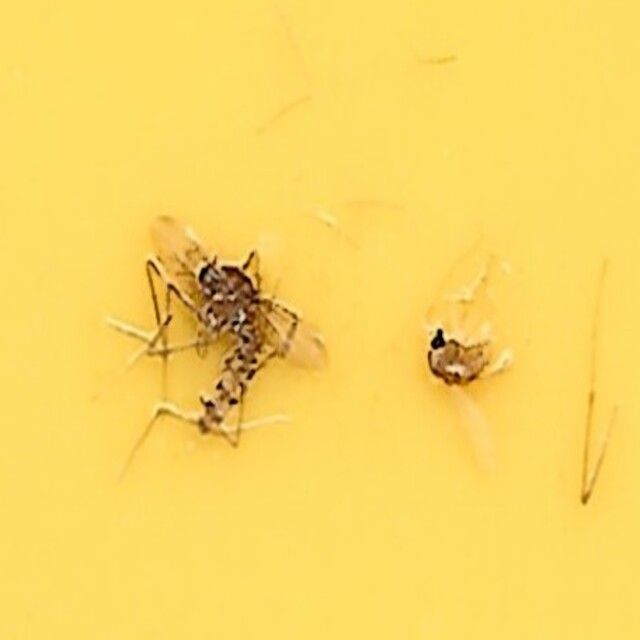Nematocera: (140, 203, 335, 437), (415, 317, 500, 419)
